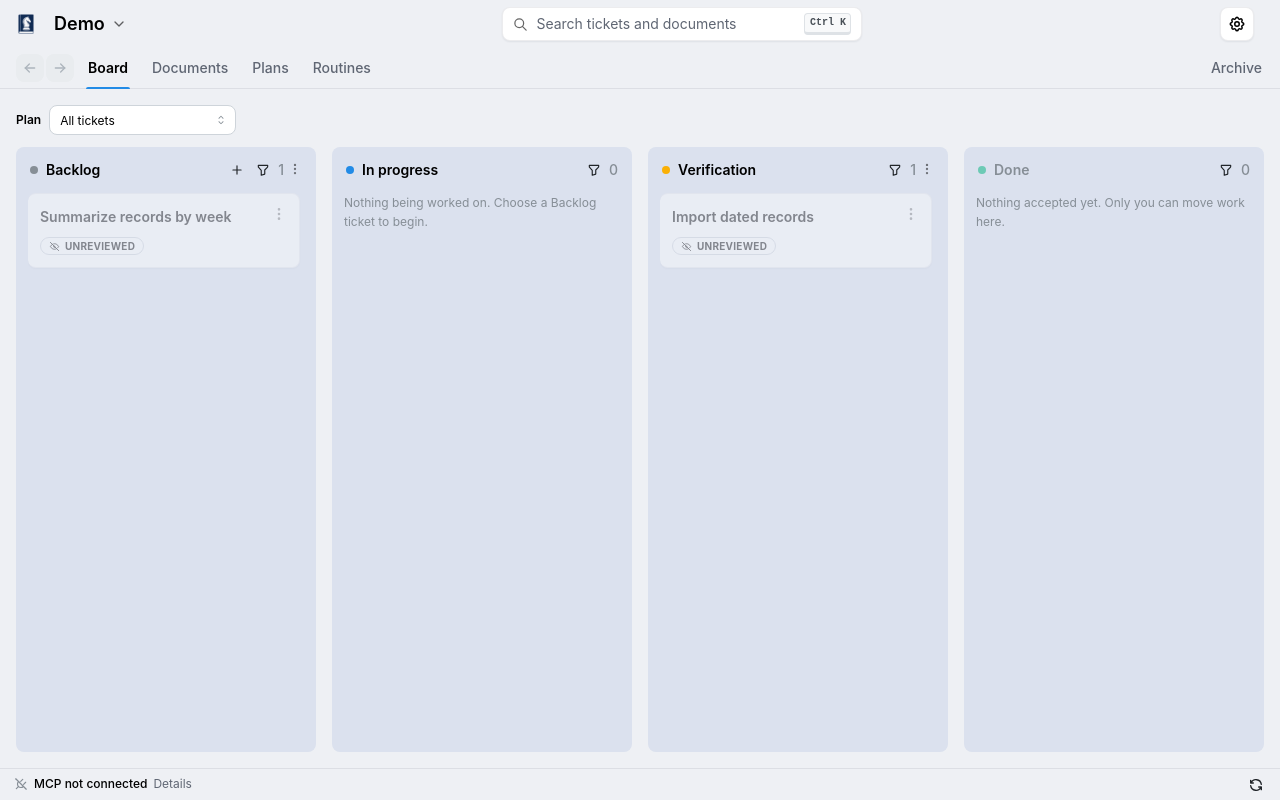
results › marks matches as text, so a ticket containing markup cannot inject any
This screenshot has width=1280, height=800.
expect the text "Import dated records" is shown: met, box 672,208 -> 814,225
Click the button "Search tickets and documents Ctrl K".
click(682, 24)  # box 502,7 -> 862,41
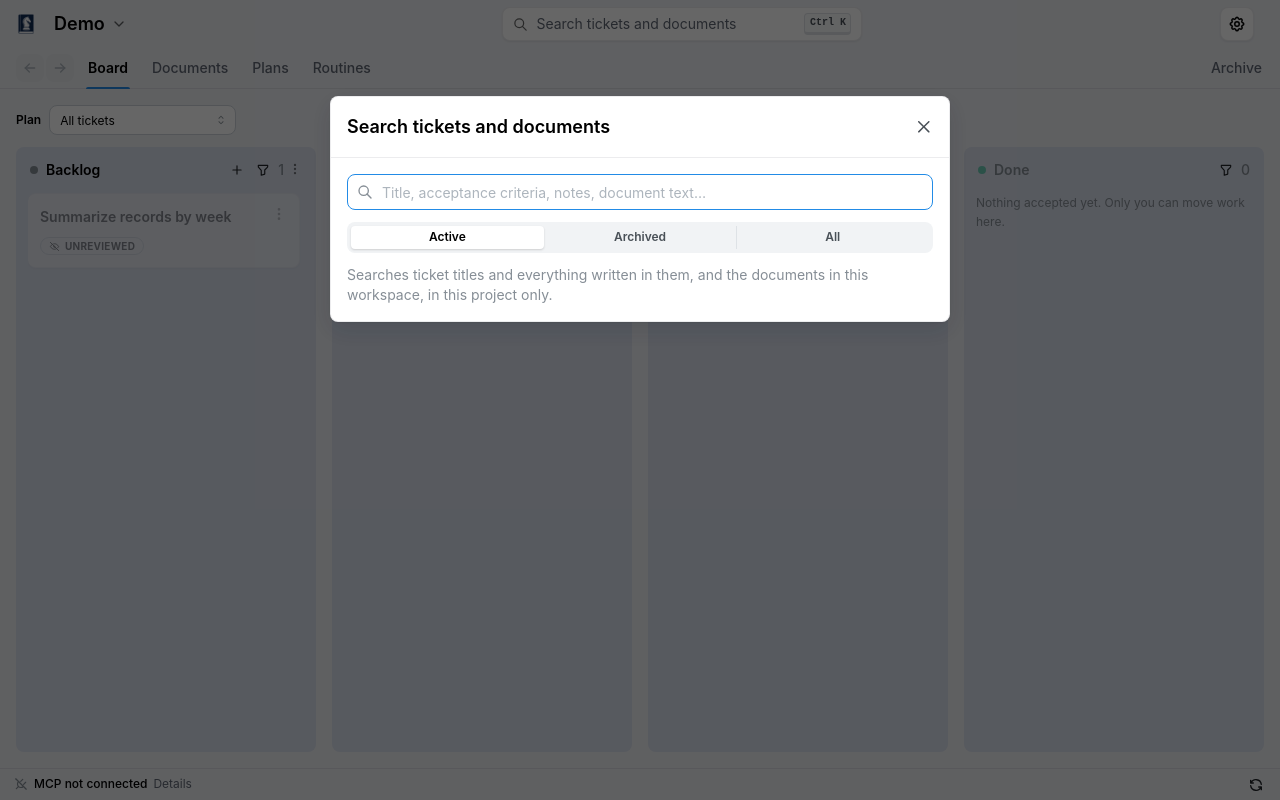
Type "import" into the field named "Search tickets and documents".
click(640, 192); type("import")  # box 347,174 -> 933,210
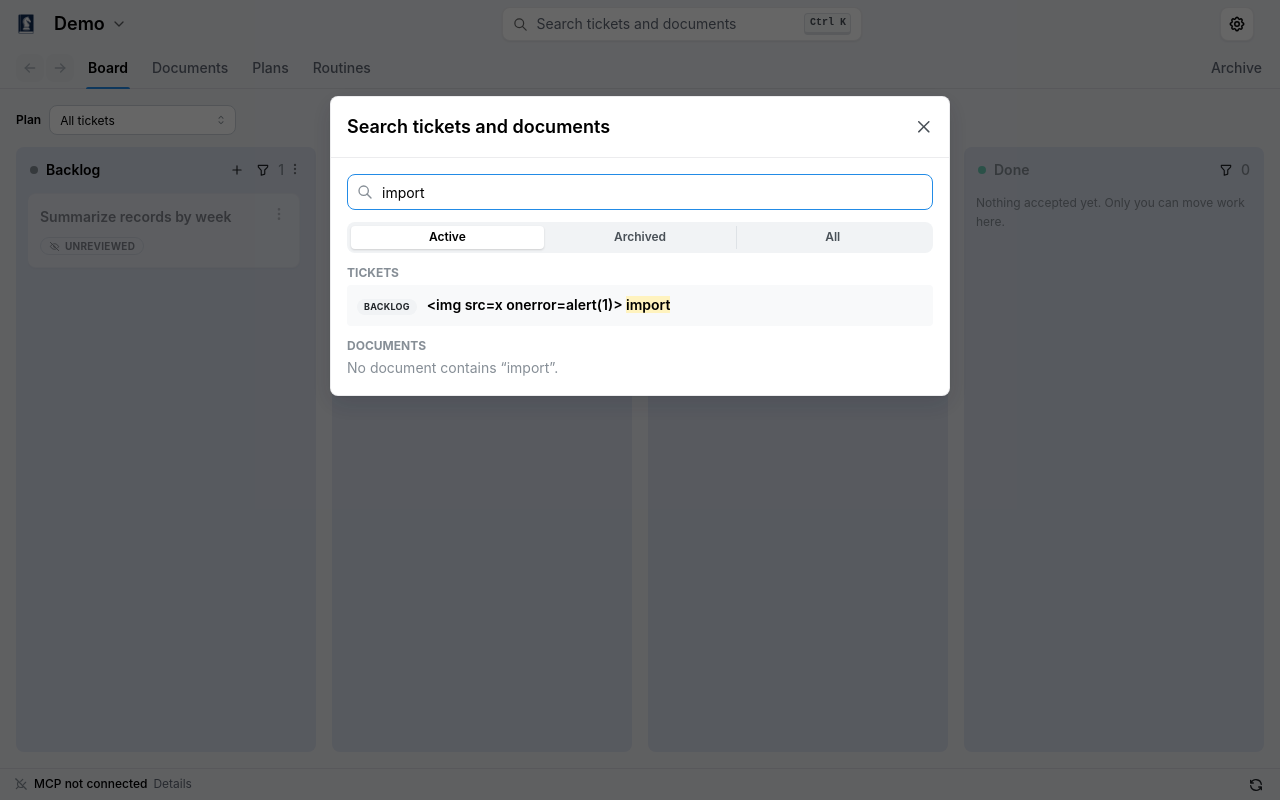
expect the text "import" is shown: met, box 626,296 -> 670,313
